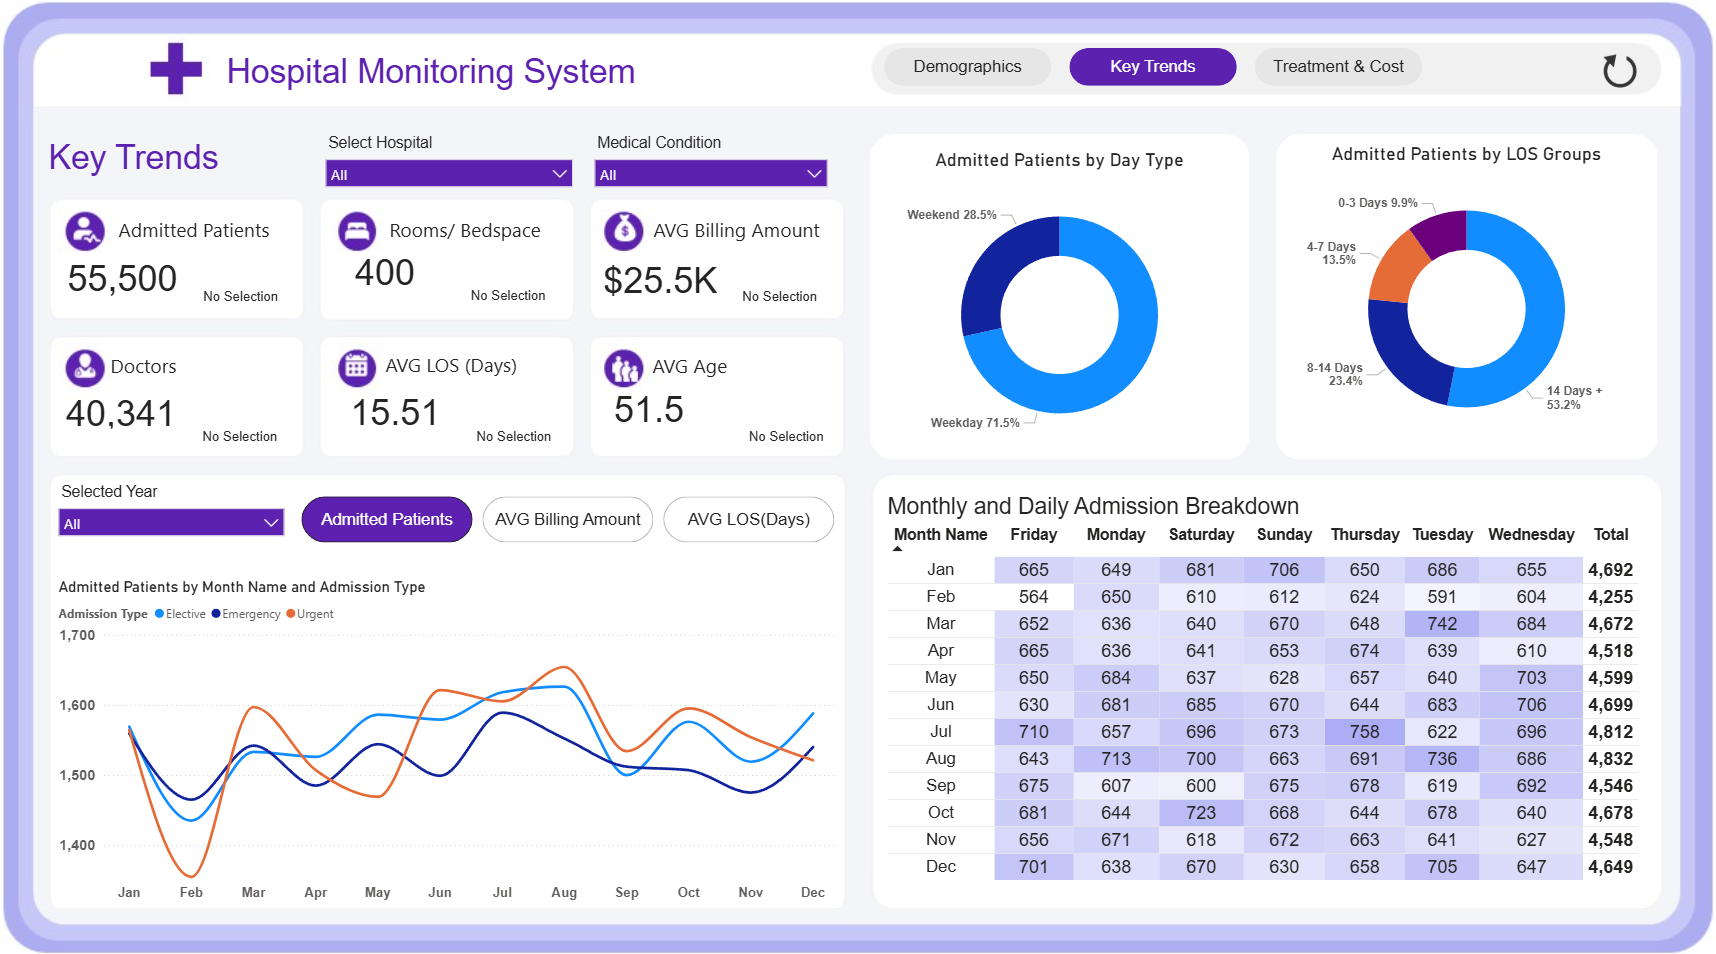

What the dashboard file says about the page in this screenshot:
{"tool":"powerbi","page":{"name":"Key Trends","canvas":[1920,1080],"ordinal":1},"visuals":[{"type":"card","fields":{"Values":["_DaxMeasures.Admitted Patients"]},"box":[55.7,281.4,174.3,68.6],"z":0},{"type":"textbox","box":[132.9,242.9,194.3,38.6],"z":1000},{"type":"textbox","box":[434.3,242.9,194.3,38.6],"z":2000},{"type":"textbox","box":[727.5,243.4,203.5,38.6],"z":3000},{"type":"textbox","box":[124.3,394.3,202.9,38.6],"z":4000},{"type":"textbox","box":[429.6,393.7,218.1,38.6],"z":5000},{"type":"textbox","box":[727.1,394.3,202.9,38.6],"z":6000},{"type":"slicer","fields":{"Values":["Dim_Date.Year"]},"box":[66.5,544,260.7,73.2],"z":7000},{"type":"slicer","fields":{"Values":["DimMedicalCondition.Medical Condition"]},"box":[662.4,156.9,268.7,73.2],"z":8000},{"type":"card","fields":{"Values":["_DaxMeasures.admission YoY"]},"box":[204.8,315.4,139.3,46.4],"z":9000},{"type":"card","fields":{"Values":["_DaxMeasures.Billing YoY"]},"box":[800.2,316.8,146.1,45.1],"z":10000},{"type":"card","fields":{"Values":["_DaxMeasures.AVG Billing Amount"]},"box":[652.7,279.9,176.2,75.1],"z":11000},{"type":"card","fields":{"Values":["_DaxMeasures.Room"]},"box":[356.4,279.9,155.7,57.4],"z":12000},{"type":"card","fields":{"Values":["_DaxMeasures.Room YoY"]},"box":[495.7,315.4,151.6,43.7],"z":13000},{"type":"card","fields":{"Values":["_DaxMeasures.Doctor"]},"box":[66.9,439.7,148.8,49.2],"z":14000},{"type":"card","fields":{"Values":["_DaxMeasures.Doctor YoY"]},"box":[202.1,479.3,142,30],"z":15000},{"type":"card","fields":{"Values":["_DaxMeasures.AVG LOS(Days)"]},"box":[363.2,434.3,165.2,60.1],"z":16000},{"type":"card","fields":{"Values":["_DaxMeasures.AVG Age"]},"box":[662.3,434.3,131.1,53.3],"z":17000},{"type":"card","fields":{"Values":["_DaxMeasures.AVG LOS (Days) YoY"]},"box":[512.1,479.3,131.1,30],"z":18000},{"type":"card","fields":{"Values":["_DaxMeasures.AVG age YoY"]},"box":[819.3,479.3,122.9,30],"z":19000},{"type":"advancedSlicerVisual","fields":{"Values":["Parameter 2.Parameter"]},"box":[336.5,554.6,603.8,61.2],"z":22000},{"type":"lineChart","fields":{"Y":["_DaxMeasures.Admitted Patients"],"Series":["HealthStateData.Admission Type"],"Category":["Dim_Date.Month Name"]},"box":[67.2,650.2,876.1,366.3],"z":23000},{"type":"pivotTable","title":"Monthly and Daily Admission Breakdown","fields":{"Values":["_DaxMeasures.Admitted Patients"],"Rows":["Dim_Date.Month Name"],"Columns":["Dim_Date.Day Name"]},"box":[988.2,556,851.2,460.2],"z":24000},{"type":"slicer","fields":{"Values":["HealthStateData.Hospital"]},"box":[363.1,156.9,284.6,73.2],"z":25000},{"type":"shape","box":[973.6,156.9,421.6,361.8],"z":26000},{"type":"shape","box":[1424.5,156.9,424.3,361.8],"z":27000},{"type":"donutChart","fields":{"Y":["_DaxMeasures.Admitted Patients"],"Category":["Dim_Date.Day Type"]},"box":[988.2,172.9,392.4,345.8],"z":28000},{"type":"donutChart","fields":{"Y":["_DaxMeasures.Admitted Patients"],"Category":["HealthStateData.LOS Groups"]},"box":[1440.4,166.3,392.4,345.8],"z":29000},{"type":"textbox","box":[55.7,157.1,295.7,57.1],"z":30000},{"type":"pageNavigator","box":[988.6,61.4,600,42.9],"z":31000},{"type":"image","box":[1772.9,62.9,67.1,47.1],"z":32000},{"type":"textbox","box":[252.9,61.4,488.6,57.1],"z":33000}]}

Visuals, with their boxes in screenshot pixels (x1, y1, x2, y2), scaled from the page's 1920x1080 canvas onto the 1716x954 screenshot:
card - _DaxMeasures.Admitted Patients: [left=50, top=249, right=206, bottom=309]
textbox: [left=119, top=215, right=292, bottom=249]
textbox: [left=388, top=215, right=562, bottom=249]
textbox: [left=650, top=215, right=832, bottom=249]
textbox: [left=111, top=348, right=292, bottom=382]
textbox: [left=384, top=348, right=579, bottom=382]
textbox: [left=650, top=348, right=831, bottom=382]
slicer - Dim_Date.Year: [left=59, top=481, right=292, bottom=545]
slicer - DimMedicalCondition.Medical Condition: [left=592, top=139, right=832, bottom=203]
card - _DaxMeasures.admission YoY: [left=183, top=279, right=308, bottom=320]
card - _DaxMeasures.Billing YoY: [left=715, top=280, right=846, bottom=320]
card - _DaxMeasures.AVG Billing Amount: [left=583, top=247, right=741, bottom=314]
card - _DaxMeasures.Room: [left=319, top=247, right=458, bottom=298]
card - _DaxMeasures.Room YoY: [left=443, top=279, right=579, bottom=317]
card - _DaxMeasures.Doctor: [left=60, top=388, right=193, bottom=432]
card - _DaxMeasures.Doctor YoY: [left=181, top=423, right=308, bottom=450]
card - _DaxMeasures.AVG LOS(Days): [left=325, top=384, right=472, bottom=437]
card - _DaxMeasures.AVG Age: [left=592, top=384, right=709, bottom=431]
card - _DaxMeasures.AVG LOS (Days) YoY: [left=458, top=423, right=575, bottom=450]
card - _DaxMeasures.AVG age YoY: [left=732, top=423, right=842, bottom=450]
advancedSlicerVisual - Parameter 2.Parameter: [left=301, top=490, right=840, bottom=544]
lineChart - _DaxMeasures.Admitted Patients x HealthStateData.Admission Type: [left=60, top=574, right=843, bottom=898]
"Monthly and Daily Admission Breakdown" pivotTable: [left=883, top=491, right=1644, bottom=898]
slicer - HealthStateData.Hospital: [left=325, top=139, right=579, bottom=203]
shape: [left=870, top=139, right=1247, bottom=458]
shape: [left=1273, top=139, right=1652, bottom=458]
donutChart - _DaxMeasures.Admitted Patients x Dim_Date.Day Type: [left=883, top=153, right=1234, bottom=458]
donutChart - _DaxMeasures.Admitted Patients x HealthStateData.LOS Groups: [left=1287, top=147, right=1638, bottom=452]
textbox: [left=50, top=139, right=314, bottom=189]
pageNavigator: [left=884, top=54, right=1420, bottom=92]
image: [left=1585, top=56, right=1644, bottom=97]
textbox: [left=226, top=54, right=663, bottom=105]
